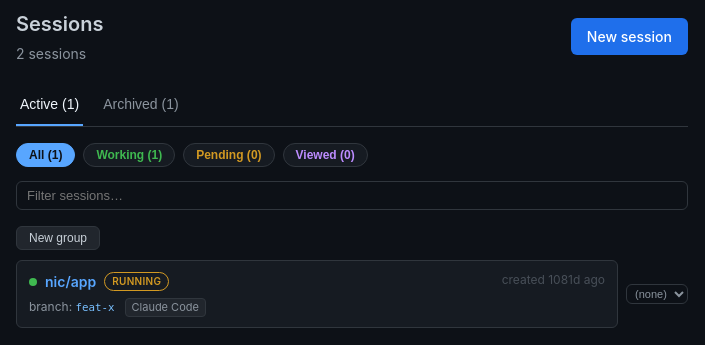
Test: SessionList › keeps the archived tab working alongside the chips
The image size is (705, 345).
Click the button "Archived (1)": (141, 107) x1=99 y1=88 x2=183 y2=126
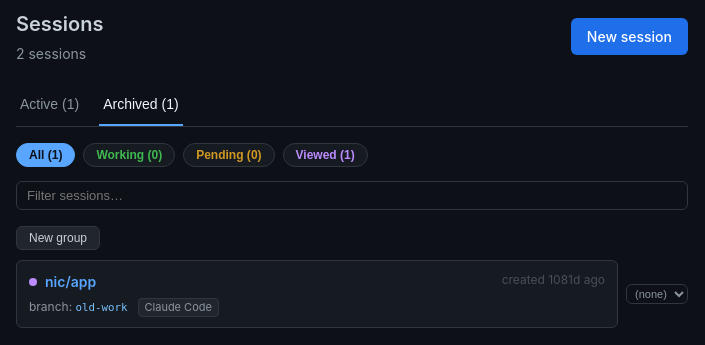
Result: the text "old-work" is shown at x1=76 y1=301 x2=128 y2=314
Result: the link "feat-x" is gone
Result: the button "Viewed (1)" is shown at x1=283 y1=143 x2=368 y2=167
